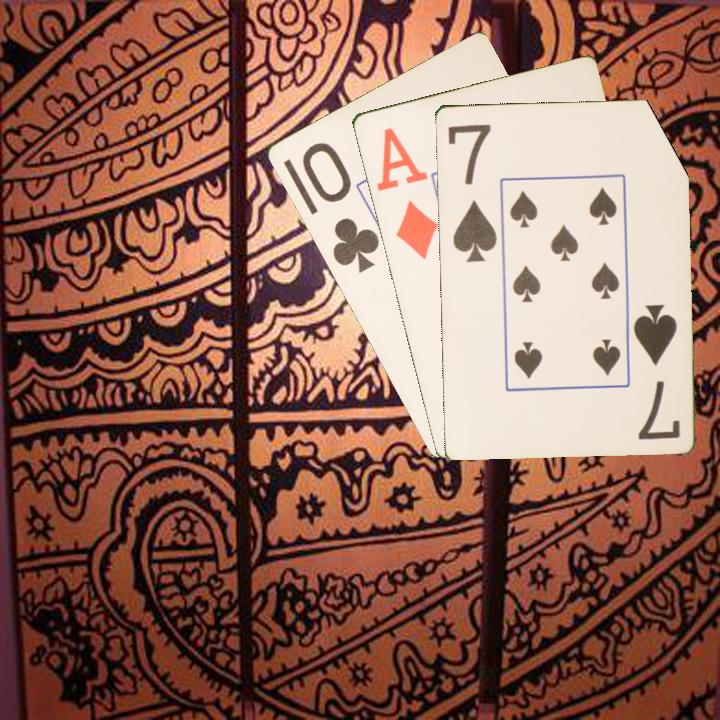10c: (297, 138, 382, 276)
7s: (443, 119, 499, 265), (630, 300, 683, 442)
Ad: (372, 123, 441, 262)
